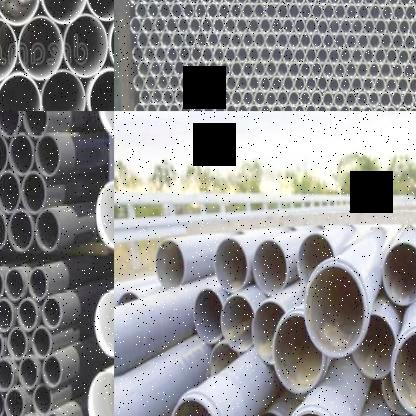pipe: (304, 263, 366, 358), (272, 312, 324, 394), (18, 16, 63, 80), (351, 314, 395, 378), (64, 14, 108, 77), (381, 241, 416, 305), (391, 328, 416, 416), (252, 300, 285, 364), (252, 239, 288, 296), (296, 233, 335, 285), (221, 294, 255, 352), (214, 238, 248, 293), (40, 70, 85, 111), (193, 287, 223, 344), (0, 72, 41, 111), (155, 239, 185, 290), (94, 290, 114, 356), (86, 371, 114, 416), (96, 182, 114, 249), (40, 0, 88, 24), (0, 17, 17, 82), (8, 133, 34, 175), (209, 342, 240, 377), (35, 209, 60, 252), (89, 70, 114, 111), (0, 0, 39, 26), (35, 136, 60, 176), (22, 172, 46, 213), (8, 210, 32, 251), (170, 397, 220, 416), (0, 171, 19, 212), (29, 266, 49, 300), (42, 296, 62, 330), (18, 298, 38, 332), (42, 355, 62, 388), (23, 111, 48, 137), (32, 326, 52, 358), (33, 384, 53, 416), (5, 268, 24, 301), (8, 328, 27, 360), (20, 357, 38, 390), (86, 0, 114, 21), (4, 387, 24, 416), (0, 111, 20, 137), (0, 358, 14, 391), (0, 300, 13, 331), (0, 133, 8, 174), (0, 209, 6, 251), (135, 1, 148, 20), (392, 32, 404, 52), (340, 46, 352, 66), (328, 46, 340, 66), (386, 46, 398, 66), (393, 4, 406, 22), (373, 76, 386, 94), (147, 1, 159, 20), (236, 16, 248, 35), (224, 16, 236, 35), (242, 31, 254, 50), (265, 31, 277, 50), (276, 31, 288, 50), (300, 31, 312, 50), (288, 31, 300, 50), (334, 31, 346, 50), (346, 32, 358, 51), (357, 32, 369, 51), (380, 32, 392, 51), (369, 32, 381, 51), (398, 47, 410, 66), (374, 20, 388, 36), (183, 2, 195, 20), (206, 2, 218, 20), (170, 2, 182, 20), (194, 2, 206, 20), (218, 2, 230, 20), (242, 2, 254, 20), (288, 2, 300, 20), (276, 2, 288, 20), (265, 2, 277, 20), (300, 2, 312, 20), (346, 3, 358, 21), (381, 3, 393, 21), (154, 16, 166, 34), (142, 16, 154, 34), (212, 16, 224, 34), (201, 16, 213, 34), (188, 16, 200, 34), (178, 16, 190, 34), (130, 16, 142, 34), (248, 16, 260, 34), (260, 16, 272, 34), (328, 18, 340, 36), (316, 18, 328, 36), (340, 18, 352, 36), (352, 18, 364, 36), (363, 18, 375, 36), (172, 31, 184, 49), (311, 32, 323, 50), (404, 34, 416, 52), (144, 45, 156, 63), (362, 47, 374, 65), (352, 47, 364, 65), (374, 47, 386, 65), (196, 60, 208, 78), (138, 60, 150, 78), (356, 60, 368, 78), (334, 61, 346, 79), (380, 61, 392, 79), (392, 62, 404, 80), (404, 62, 416, 80), (156, 74, 168, 92), (144, 74, 156, 92), (168, 74, 180, 92), (340, 76, 352, 94), (362, 76, 374, 94), (386, 76, 398, 94), (351, 76, 363, 94), (397, 76, 409, 94), (174, 88, 186, 106), (140, 88, 152, 106), (368, 90, 380, 108), (379, 90, 391, 108), (402, 91, 414, 109), (358, 3, 369, 22), (405, 3, 416, 22), (271, 17, 282, 36), (283, 17, 294, 36), (208, 31, 219, 50), (219, 31, 230, 50), (231, 31, 242, 50), (323, 32, 334, 51), (158, 3, 170, 20), (294, 18, 306, 35), (184, 31, 196, 48), (236, 46, 248, 63), (154, 46, 166, 63), (294, 47, 306, 64), (316, 47, 328, 64), (305, 47, 317, 64), (282, 47, 294, 64), (224, 47, 236, 64), (162, 60, 174, 77), (150, 60, 162, 77), (311, 61, 323, 78), (276, 61, 288, 78), (184, 61, 196, 78), (346, 62, 358, 79), (288, 62, 300, 79), (368, 62, 380, 79), (300, 62, 312, 79), (190, 75, 202, 92), (316, 76, 328, 93), (294, 76, 306, 93), (259, 76, 271, 93), (162, 89, 174, 106), (346, 91, 358, 108), (322, 91, 334, 108), (231, 2, 242, 20), (312, 2, 323, 20), (323, 3, 334, 21), (370, 3, 381, 21), (165, 16, 176, 34), (306, 18, 317, 36), (387, 18, 398, 36), (399, 18, 410, 36), (266, 60, 277, 78), (208, 60, 219, 78), (254, 60, 265, 78), (231, 60, 242, 78), (253, 3, 265, 19), (160, 32, 172, 48), (196, 32, 208, 48), (148, 32, 160, 48), (136, 32, 148, 48), (190, 45, 202, 61), (132, 46, 144, 62), (248, 47, 260, 63), (166, 47, 178, 63), (260, 47, 272, 63), (212, 47, 224, 63), (202, 47, 214, 63), (173, 60, 185, 76), (224, 76, 236, 92), (202, 76, 214, 92), (305, 76, 317, 92), (248, 76, 260, 92), (237, 76, 249, 92), (219, 90, 231, 106), (208, 90, 220, 106), (231, 90, 243, 106), (196, 90, 208, 106), (300, 90, 312, 106), (288, 90, 300, 106), (276, 91, 288, 107), (265, 91, 277, 107), (242, 91, 254, 107), (310, 91, 322, 107), (356, 92, 368, 108), (334, 92, 346, 108), (335, 4, 346, 21), (179, 46, 190, 63), (271, 46, 282, 63), (243, 61, 254, 78), (219, 62, 230, 79), (323, 62, 334, 79), (214, 75, 225, 92), (145, 75, 156, 92), (271, 75, 282, 92), (391, 91, 402, 108), (180, 74, 190, 92), (328, 78, 340, 93), (186, 88, 196, 106), (152, 88, 162, 106), (254, 32, 265, 48), (283, 76, 294, 92), (254, 90, 265, 106), (134, 75, 144, 92), (0, 329, 4, 361), (409, 77, 416, 94), (410, 47, 416, 66), (0, 388, 4, 416), (410, 18, 416, 36), (0, 268, 3, 301), (191, 103, 203, 111), (168, 103, 180, 111), (156, 103, 168, 111), (134, 103, 146, 111), (202, 103, 214, 111), (236, 103, 248, 111), (293, 103, 305, 111), (225, 103, 237, 111), (213, 103, 225, 111), (146, 102, 156, 111), (180, 103, 191, 111), (399, 0, 411, 7), (248, 104, 260, 111), (338, 104, 350, 111), (327, 104, 339, 111), (316, 104, 328, 111), (362, 104, 374, 111), (385, 104, 397, 111), (282, 104, 293, 111), (305, 104, 316, 111), (271, 104, 282, 111), (387, 0, 399, 6), (350, 105, 362, 111), (396, 105, 408, 111), (340, 0, 352, 6), (352, 0, 364, 6), (364, 0, 376, 6), (376, 0, 388, 6), (260, 104, 270, 111), (374, 104, 384, 111), (211, 0, 224, 5), (293, 0, 306, 5), (140, 0, 152, 5), (164, 0, 176, 5), (200, 0, 212, 5), (188, 0, 200, 5), (176, 0, 188, 5), (224, 0, 236, 5), (248, 0, 260, 5), (270, 0, 282, 5), (258, 0, 270, 5), (282, 0, 294, 5), (305, 0, 317, 5), (316, 0, 328, 5), (328, 0, 340, 5), (236, 0, 247, 5), (413, 91, 416, 109), (408, 105, 416, 111), (128, 0, 140, 4), (152, 0, 164, 4), (411, 0, 416, 6)
